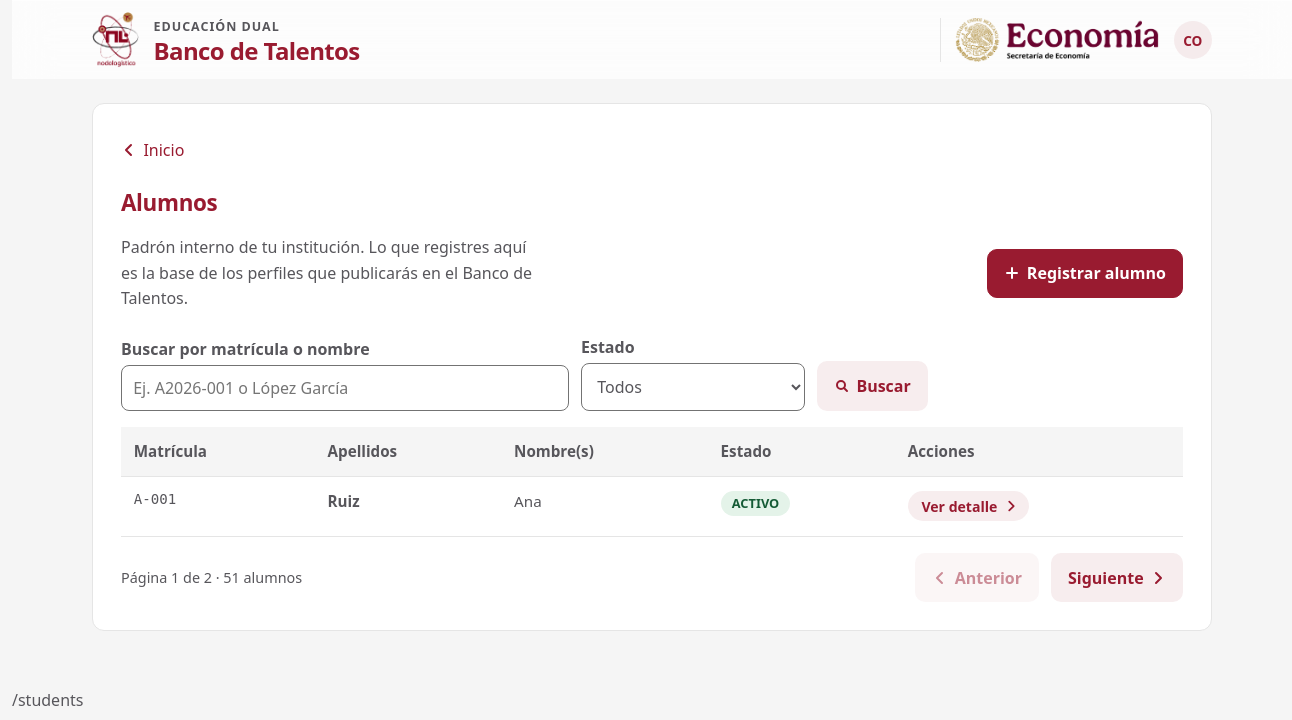
Scenario: padrón de alumnos HU-S2-02 › pagina el padrón con Anterior y Siguiente
Expected: the button "Anterior" is disabled, x1=915 y1=553 x2=1039 y2=602
Click the button "Siguiente": (1117, 578) x1=1051 y1=553 x2=1183 y2=602
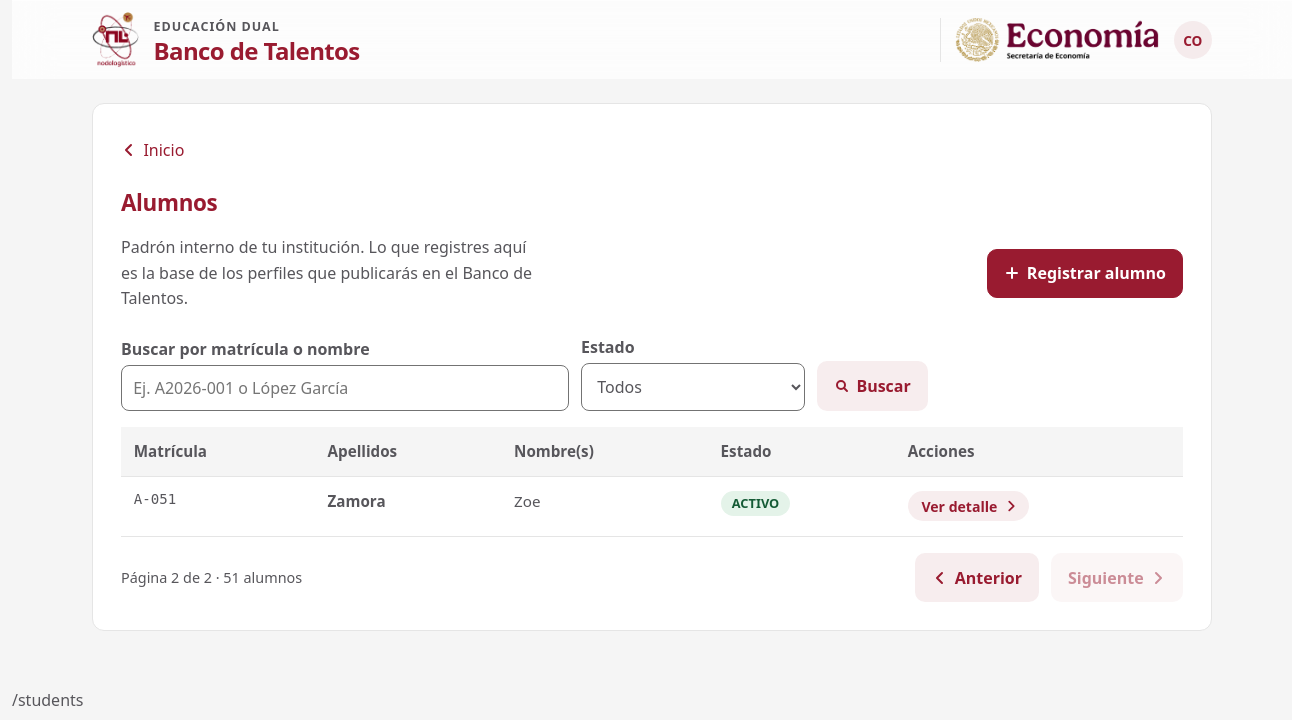
Now the text "A-051" is shown, box x1=121 y1=477 x2=315 y2=536
Now the text "Página 2 de 2 · 51 alumnos" is shown, box x1=121 y1=566 x2=302 y2=589
Now the button "Siguiente" is disabled, box x1=1051 y1=553 x2=1183 y2=602
